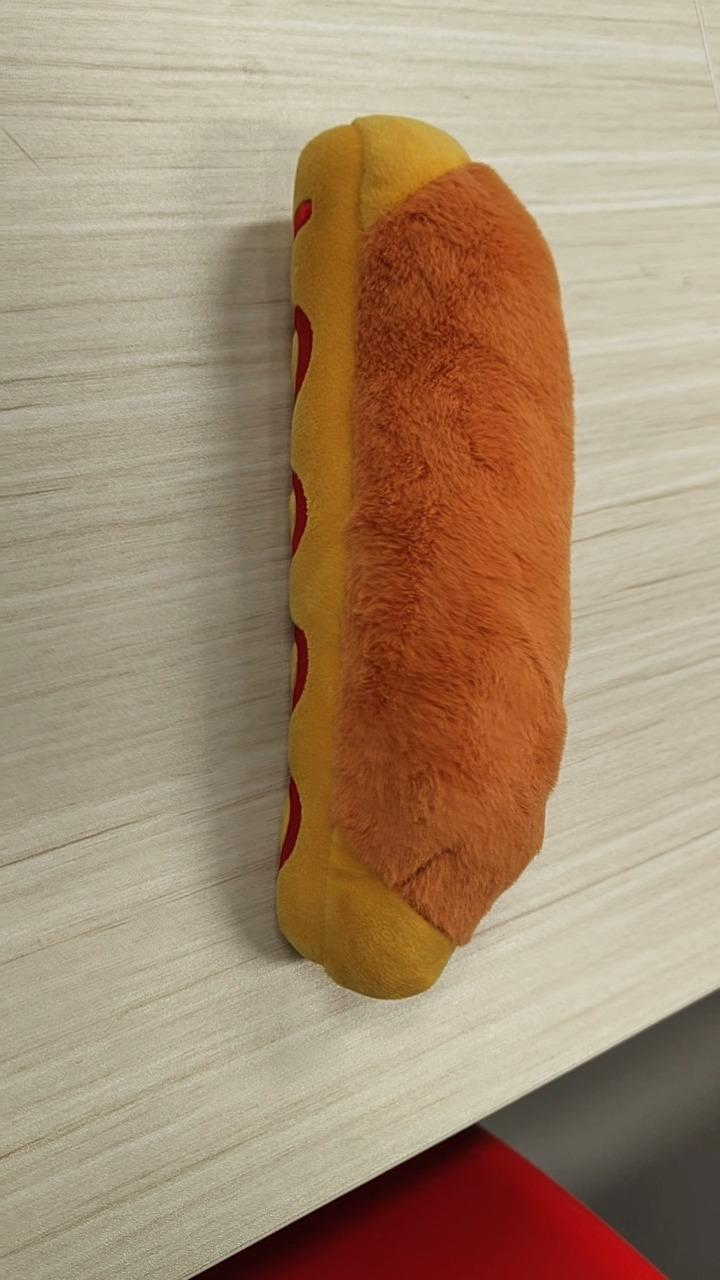hotdog: (274, 112, 576, 1000)
